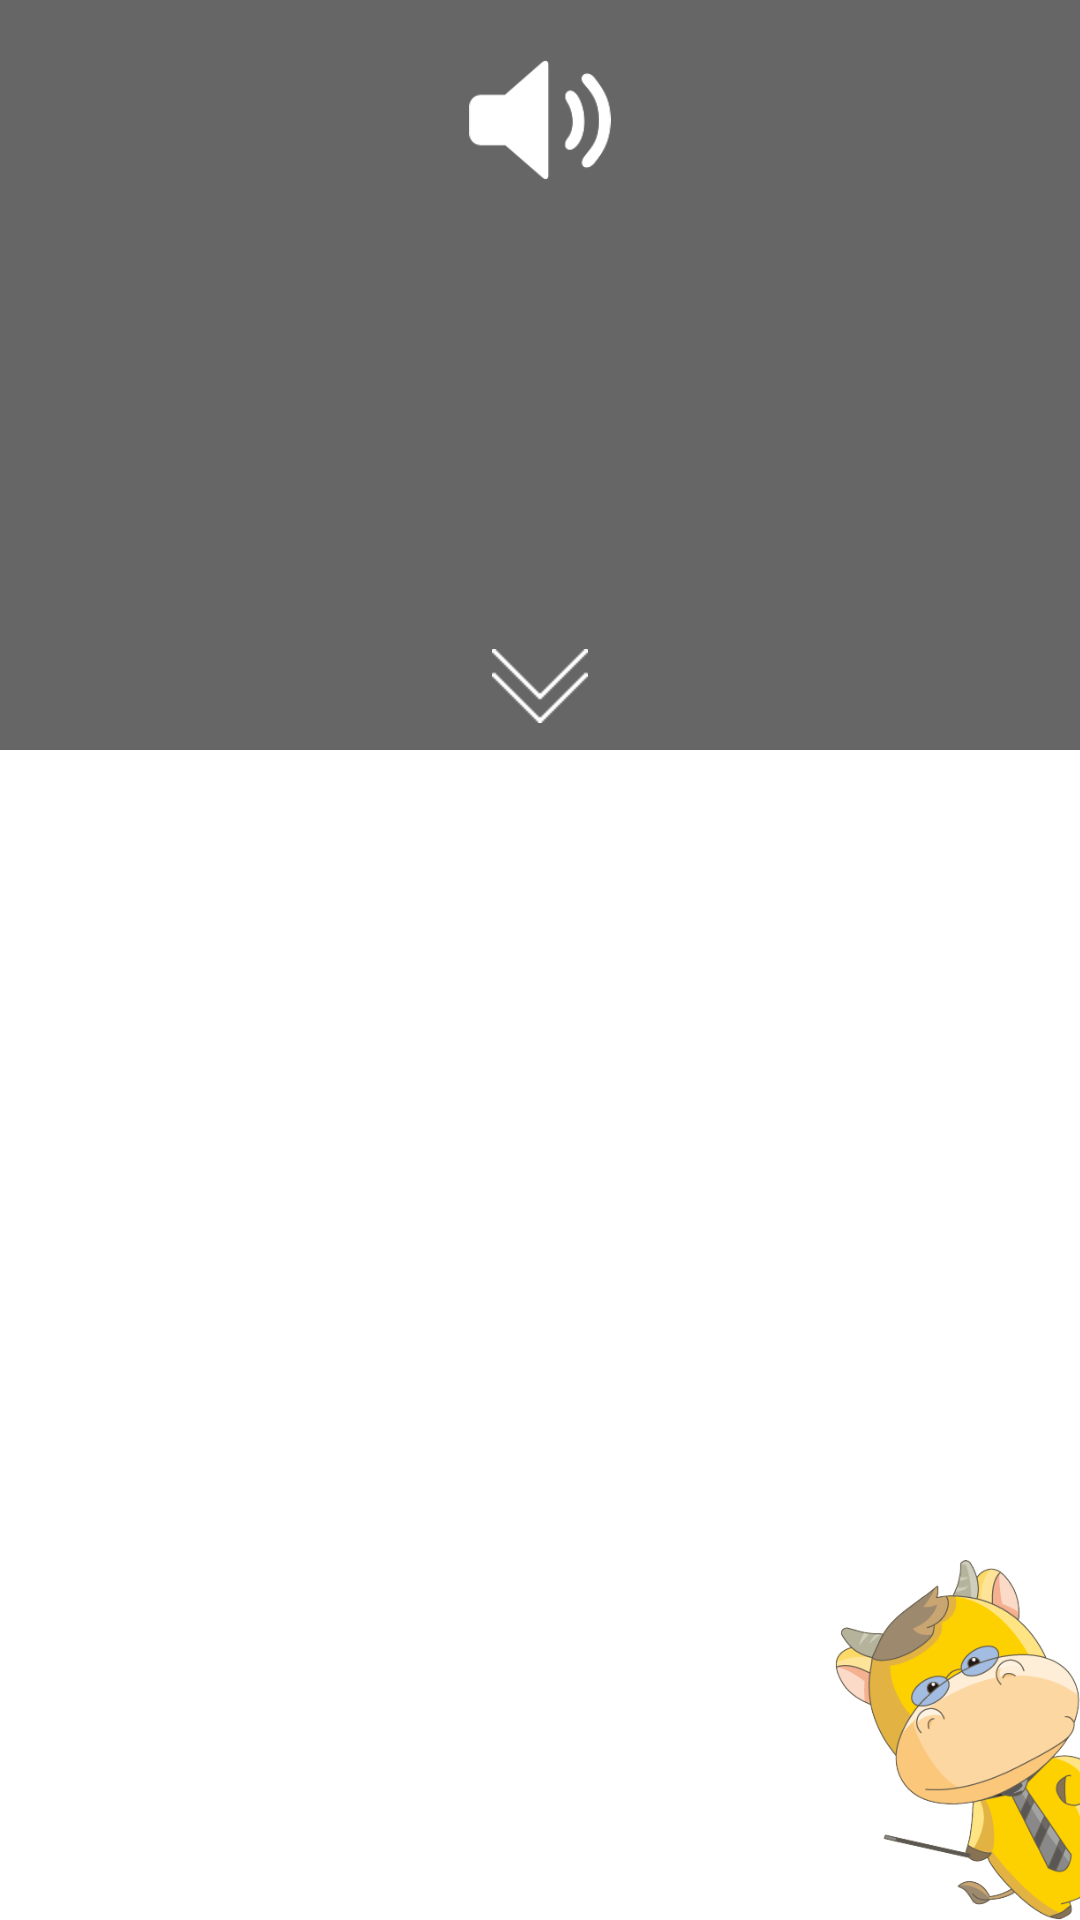

Screen size 1080 x 1920. Icon name, then its center in pixels as [x,y]:
fanyi down: [540,686]
